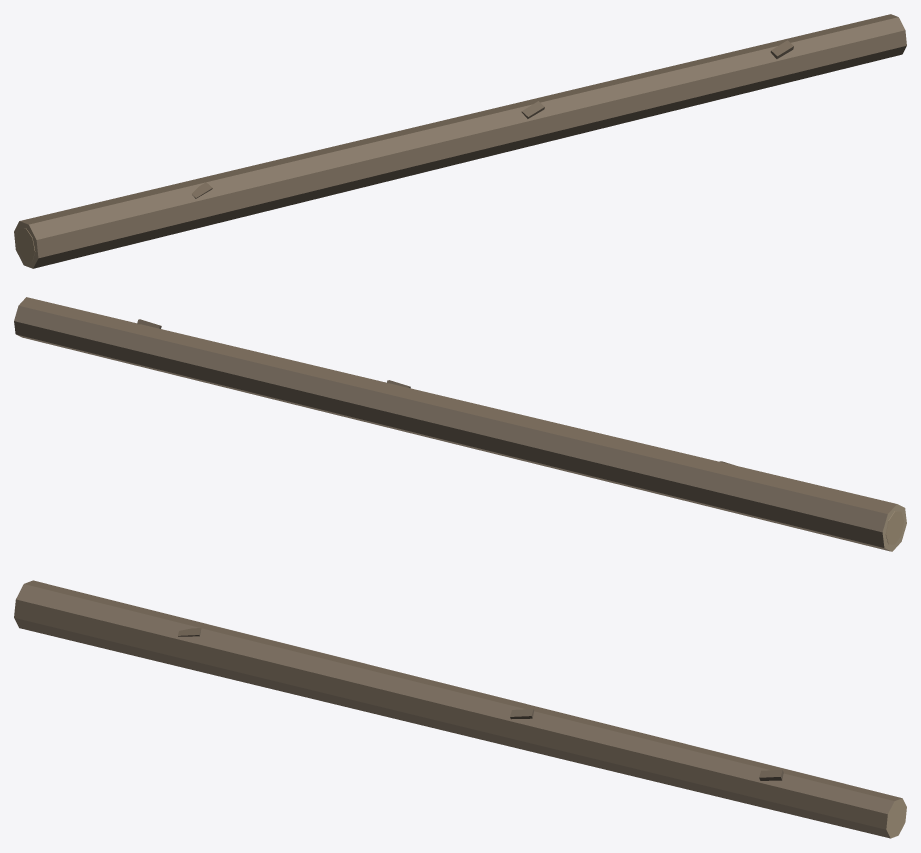
Rendered from rundholz_stamm.glb.
The picture shows the model from 3 angles, top to bottom: view 1: azimuth 30°, elevation 25°; view 2: azimuth 150°, elevation 25°; view 3: azimuth 330°, elevation 25°; orthographic projection.
Visible parts, largest first — view 1: stamm; view 2: stamm; view 3: stamm.
Boxes of the visible parts, x1,y1,x2,y2 form: stamm: [14, 14, 906, 268]; stamm: [14, 297, 906, 551]; stamm: [14, 580, 906, 838].
Size of the model in its own units: 5.24 by 0.2548 by 0.2548.
